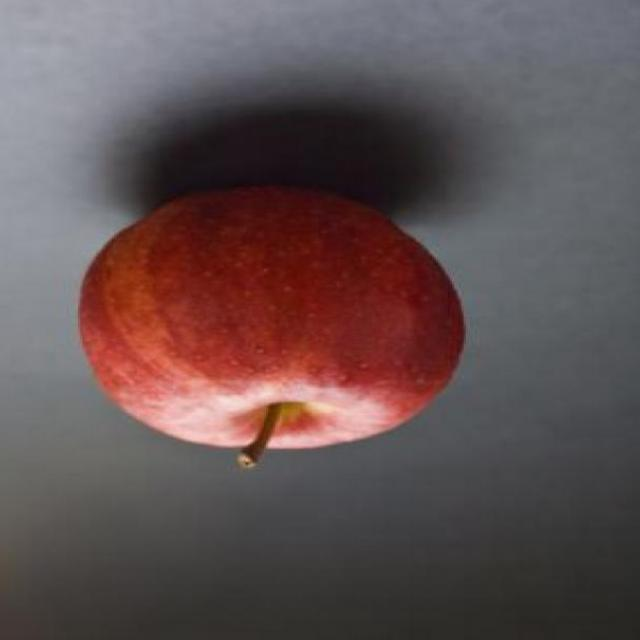apple: (69, 180, 468, 464)
